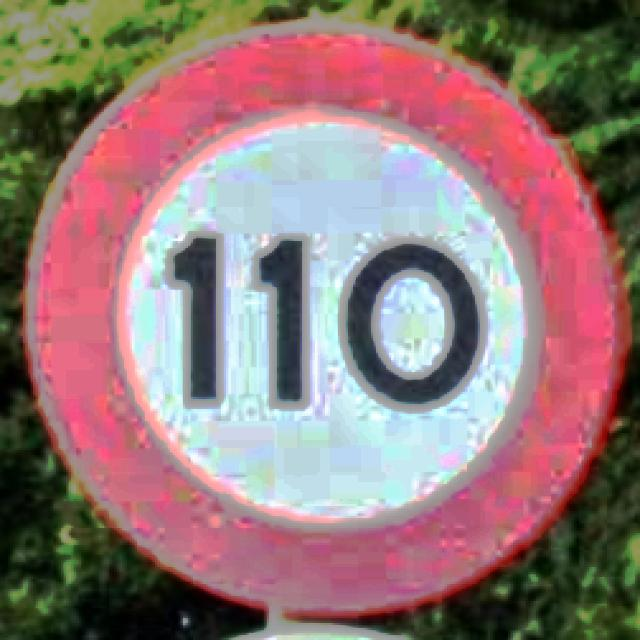max110: (18, 14, 630, 616)
